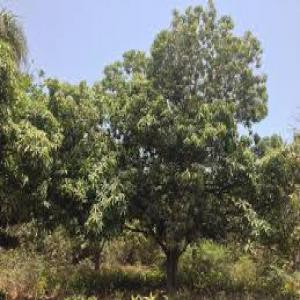Tree: (97, 5, 270, 289)
